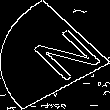N_SE: (11, 23, 99, 87)
